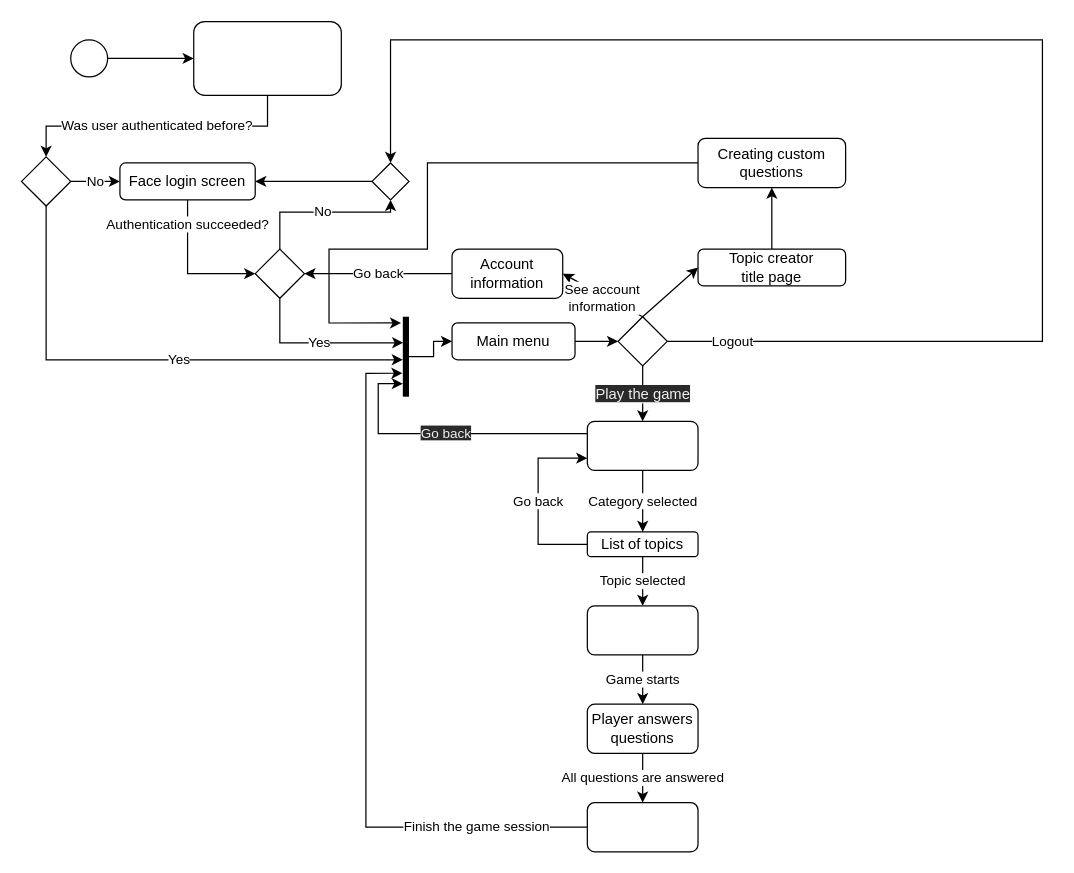
Image size: 1074x873. Some labels were removed from this diagram. The centre of each missing label's shape, as x and y in pixels:
Launch "MindGame" application: pixel 266 57
List of categories: pixel 642 445
Results screen: pixel 642 826
Topic's info page: pixel 642 630
